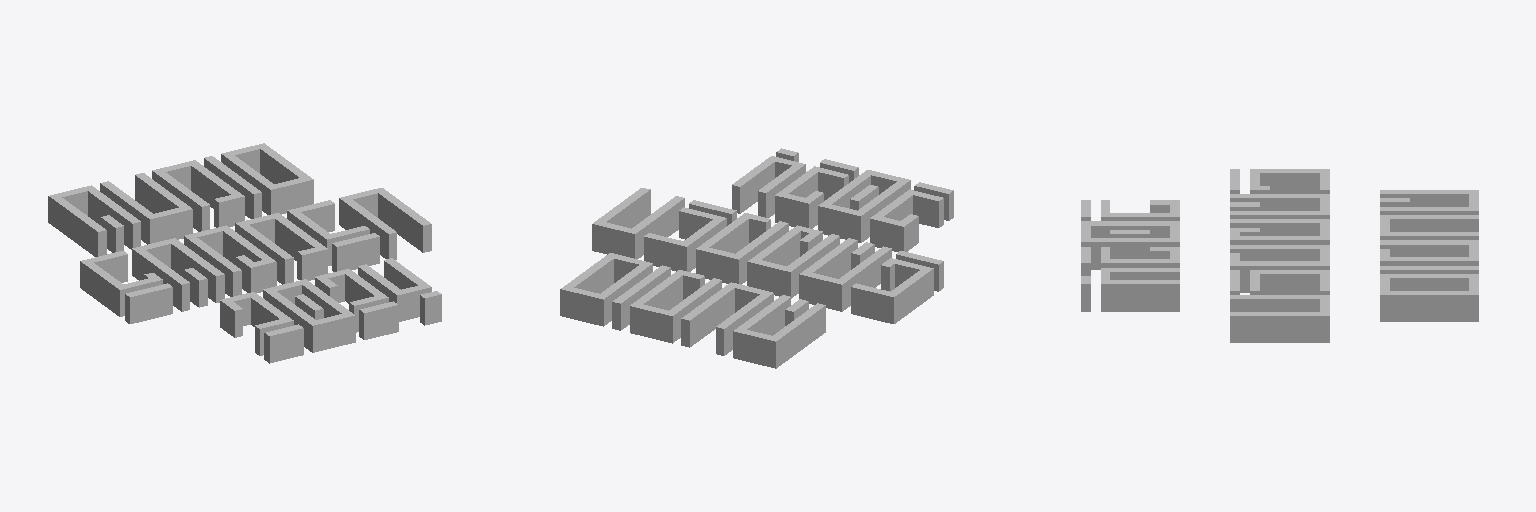
The model's file is audio garden 1.obj.
3 views of the same model, side by side, from view 1: azimuth 30°, elevation 25°; view 2: azimuth 150°, elevation 25°; view 3: azimuth 270°, elevation 25° (orthographic).
Parts seen in each view (by area): view 1: Text; view 2: Text; view 3: Text.
Boxes of the visible parts, box(x1,y1,x2,y2) form: Text: box(48, 143, 441, 363); Text: box(560, 148, 953, 368); Text: box(1081, 169, 1478, 342).
Bounding box in the file's own units: 4.19 × 0.36 × 4.8.